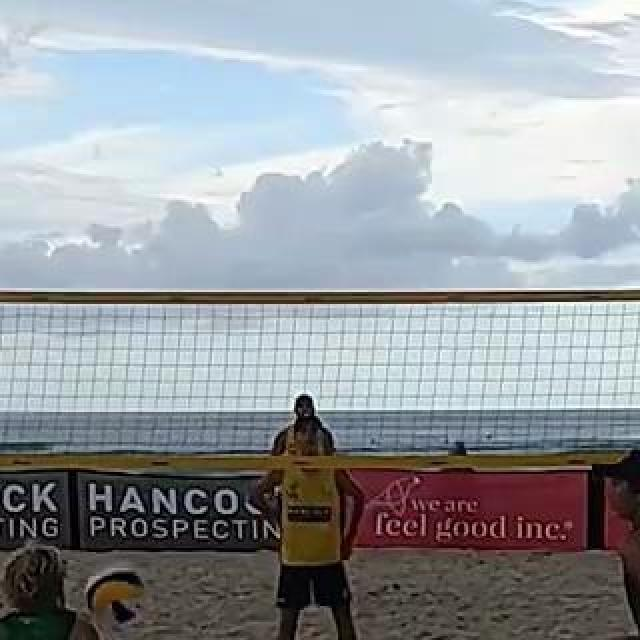volleyball: (91, 569, 145, 627)
